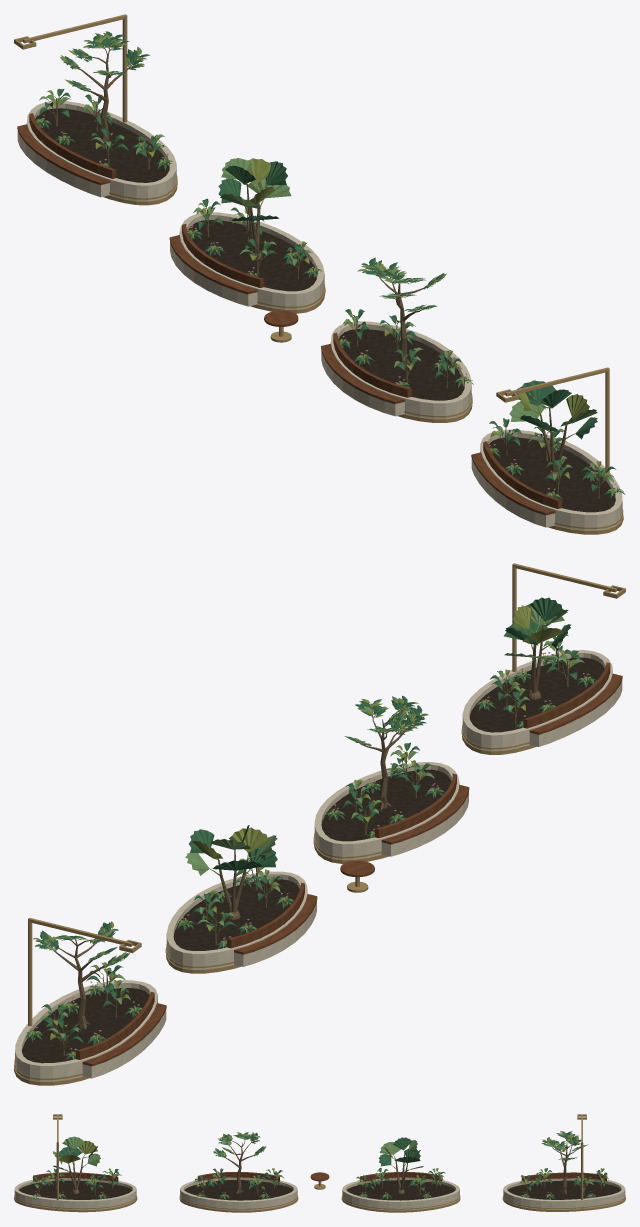
File: G7_Completion_R006B_G7C6_D16_ComposedEdge.glb
3 renders of one model, top to bottom at view 1: azimuth 30°, elevation 25°; view 2: azimuth 150°, elevation 25°; view 3: azimuth 270°, elevation 25°, orthographic. The views are drawn at different scales.
Visible parts, largest first — view 1: G7C6_D16_ComposedEdge_G7C6_soil_solid_planter, G7C6_D16_ComposedEdge_G7C6_stone_solid_planter, G7C6_D16_ComposedEdge_G7C6_wood_solid_furniture, G7C6_D16_ComposedEdge_G7C6_stone_solid_furniture, G7C6_D16_ComposedEdge_ASTRAEA_botanical_leaf_jade.001_visual, G7C6_D16_ComposedEdge_ASTRAEA_botanical_leaf_jade.003_visual, G7C6_D16_ComposedEdge_G7C6_metal_solid_fixture, G7C6_D16_ComposedEdge_G7C6_metal_solid_planter, G7C6_D16_ComposedEdge_ASTRAEA_botanical_leaf_jade_visual_fol, G7C6_D16_ComposedEdge_ASTRAEA_botanical_leaf_sage.003_visual, G7C6_D16_ComposedEdge_ASTRAEA_botanical_bark_solid_tree_bark, G7C6_D16_ComposedEdge_ASTRAEA_botanical_leaf_sage.001_visual (+7 smaller); view 2: G7C6_D16_ComposedEdge_G7C6_soil_solid_planter, G7C6_D16_ComposedEdge_G7C6_stone_solid_planter, G7C6_D16_ComposedEdge_G7C6_wood_solid_furniture, G7C6_D16_ComposedEdge_G7C6_stone_solid_furniture, G7C6_D16_ComposedEdge_ASTRAEA_botanical_leaf_jade.001_visual, G7C6_D16_ComposedEdge_G7C6_metal_solid_fixture, G7C6_D16_ComposedEdge_ASTRAEA_botanical_leaf_jade.003_visual, G7C6_D16_ComposedEdge_G7C6_metal_solid_planter, G7C6_D16_ComposedEdge_ASTRAEA_botanical_bark_solid_tree_bark, G7C6_D16_ComposedEdge_ASTRAEA_botanical_leaf_jade_visual_fol, G7C6_D16_ComposedEdge_ASTRAEA_botanical_leaf_olive.003_visua, G7C6_D16_ComposedEdge_ASTRAEA_botanical_leaf_sage.001_visual (+6 smaller); view 3: G7C6_D16_ComposedEdge_G7C6_stone_solid_planter, G7C6_D16_ComposedEdge_G7C6_soil_solid_planter, G7C6_D16_ComposedEdge_G7C6_metal_solid_planter, G7C6_D16_ComposedEdge_G7C6_wood_solid_furniture, G7C6_D16_ComposedEdge_ASTRAEA_botanical_leaf_jade.001_visual, G7C6_D16_ComposedEdge_ASTRAEA_botanical_leaf_jade.003_visual, G7C6_D16_ComposedEdge_ASTRAEA_botanical_leaf_jade_visual_fol, G7C6_D16_ComposedEdge_ASTRAEA_botanical_leaf_sage.003_visual, G7C6_D16_ComposedEdge_ASTRAEA_botanical_bark_solid_tree_bark, G7C6_D16_ComposedEdge_ASTRAEA_botanical_leaf_sage.001_visual, G7C6_D16_ComposedEdge_G7C6_metal_solid_fixture, G7C6_D16_ComposedEdge_ASTRAEA_botanical_leaf_jade.002_visual (+8 smaller).
Boxes of the visible parts, x1,y1,x2,y2 form: G7C6_D16_ComposedEdge_G7C6_soil_solid_planter: (35,108,615,512); G7C6_D16_ComposedEdge_G7C6_stone_solid_planter: (26,101,622,530); G7C6_D16_ComposedEdge_G7C6_wood_solid_furniture: (17,113,561,515); G7C6_D16_ComposedEdge_G7C6_stone_solid_furniture: (17,130,555,527); G7C6_D16_ComposedEdge_ASTRAEA_botanical_leaf_jade.001_visual: (39,88,616,491); G7C6_D16_ComposedEdge_ASTRAEA_botanical_leaf_jade.003_visual: (218,161,597,439); G7C6_D16_ComposedEdge_G7C6_metal_solid_fixture: (14,14,609,473); G7C6_D16_ComposedEdge_G7C6_metal_solid_planter: (103,175,623,534); G7C6_D16_ComposedEdge_ASTRAEA_botanical_leaf_jade_visual_fol: (64,31,444,311); G7C6_D16_ComposedEdge_ASTRAEA_botanical_leaf_sage.003_visual: (220,158,597,426); G7C6_D16_ComposedEdge_ASTRAEA_botanical_bark_solid_tree_bark: (63,36,440,369); G7C6_D16_ComposedEdge_ASTRAEA_botanical_leaf_sage.001_visual: (39,94,614,482); G7C6_D16_ComposedEdge_G7C6_soil_solid_planter: (22,657,604,1063); G7C6_D16_ComposedEdge_G7C6_stone_solid_planter: (15,650,612,1081); G7C6_D16_ComposedEdge_G7C6_wood_solid_furniture: (76,662,622,1066); G7C6_D16_ComposedEdge_G7C6_stone_solid_furniture: (82,680,622,1078); G7C6_D16_ComposedEdge_ASTRAEA_botanical_leaf_jade.001_visual: (41,634,580,1043); G7C6_D16_ComposedEdge_G7C6_metal_solid_fixture: (28,563,625,1026); G7C6_D16_ComposedEdge_ASTRAEA_botanical_leaf_jade.003_visual: (189,597,570,870); G7C6_D16_ComposedEdge_G7C6_metal_solid_planter: (14,724,536,1085); G7C6_D16_ComposedEdge_ASTRAEA_botanical_bark_solid_tree_bark: (39,703,422,1030); G7C6_D16_ComposedEdge_ASTRAEA_botanical_leaf_jade_visual_fol: (36,695,426,968); G7C6_D16_ComposedEdge_ASTRAEA_botanical_leaf_olive.003_visua: (192,605,563,875); G7C6_D16_ComposedEdge_ASTRAEA_botanical_leaf_sage.001_visual: (40,640,584,1037); G7C6_D16_ComposedEdge_G7C6_stone_solid_planter: (14,1177,625,1210); G7C6_D16_ComposedEdge_G7C6_soil_solid_planter: (19,1180,620,1200); G7C6_D16_ComposedEdge_G7C6_metal_solid_planter: (14,1195,625,1212); G7C6_D16_ComposedEdge_G7C6_wood_solid_furniture: (33,1171,606,1181); G7C6_D16_ComposedEdge_ASTRAEA_botanical_leaf_jade.001_visual: (32,1168,607,1191); G7C6_D16_ComposedEdge_ASTRAEA_botanical_leaf_jade.003_visual: (53,1137,420,1173); G7C6_D16_ComposedEdge_ASTRAEA_botanical_leaf_jade_visual_fol: (213,1131,584,1160); G7C6_D16_ComposedEdge_ASTRAEA_botanical_leaf_sage.003_visual: (53,1136,423,1172); G7C6_D16_ComposedEdge_ASTRAEA_botanical_bark_solid_tree_bark: (220,1138,583,1194); G7C6_D16_ComposedEdge_ASTRAEA_botanical_leaf_sage.001_visual: (29,1168,607,1185); G7C6_D16_ComposedEdge_G7C6_metal_solid_fixture: (53,1114,586,1208); G7C6_D16_ComposedEdge_ASTRAEA_botanical_leaf_jade.002_visual: (32,1181,608,1200).
Bounding box in the file's own units: 3.31 × 3.39 × 27.55.
Materials: 22 (21 with a texture image).
